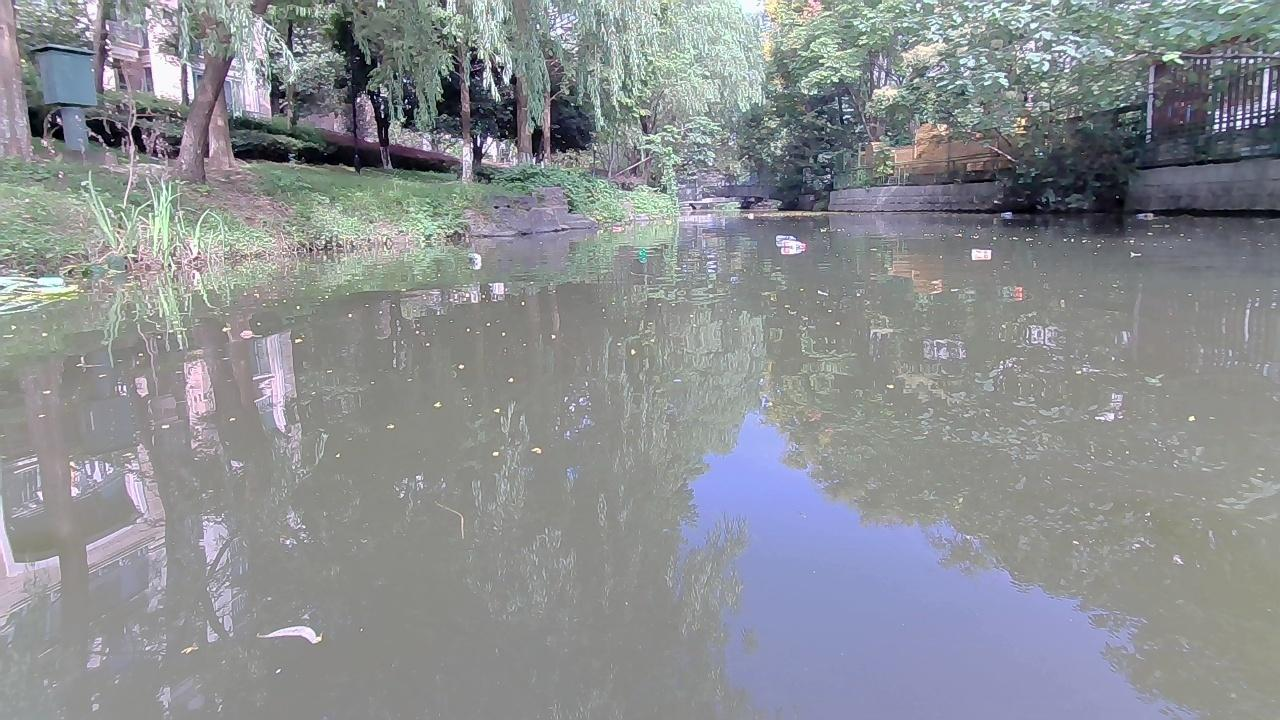bottle: (777, 244, 811, 254), (771, 232, 801, 242), (971, 247, 992, 258), (1007, 285, 1026, 295), (462, 250, 479, 261), (637, 250, 653, 261), (1135, 211, 1150, 219), (999, 209, 1011, 218)
